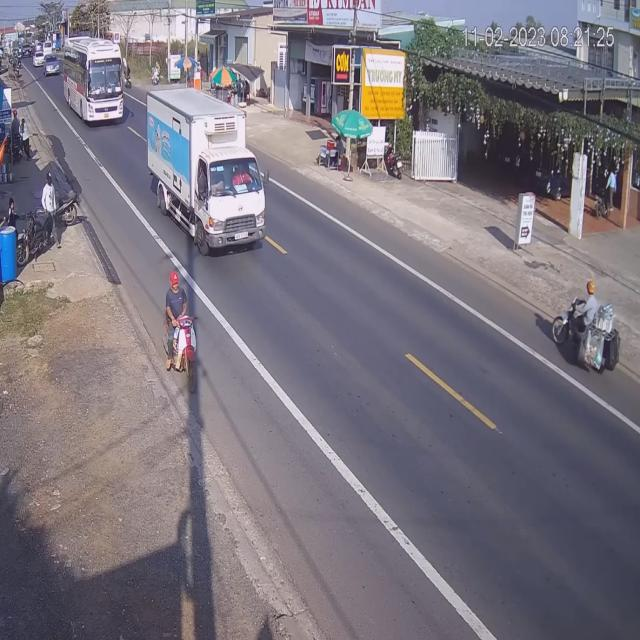bus: (63, 41, 123, 128)
motorbike: (556, 279, 618, 372)
truck: (146, 80, 268, 254)
